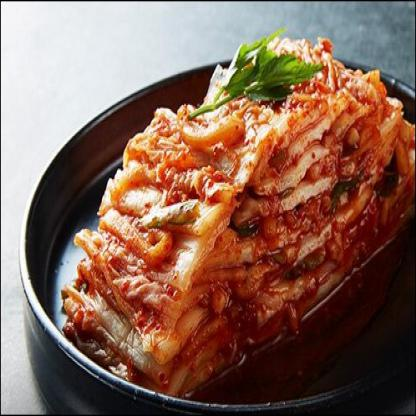kimchi: (64, 44, 415, 380)
